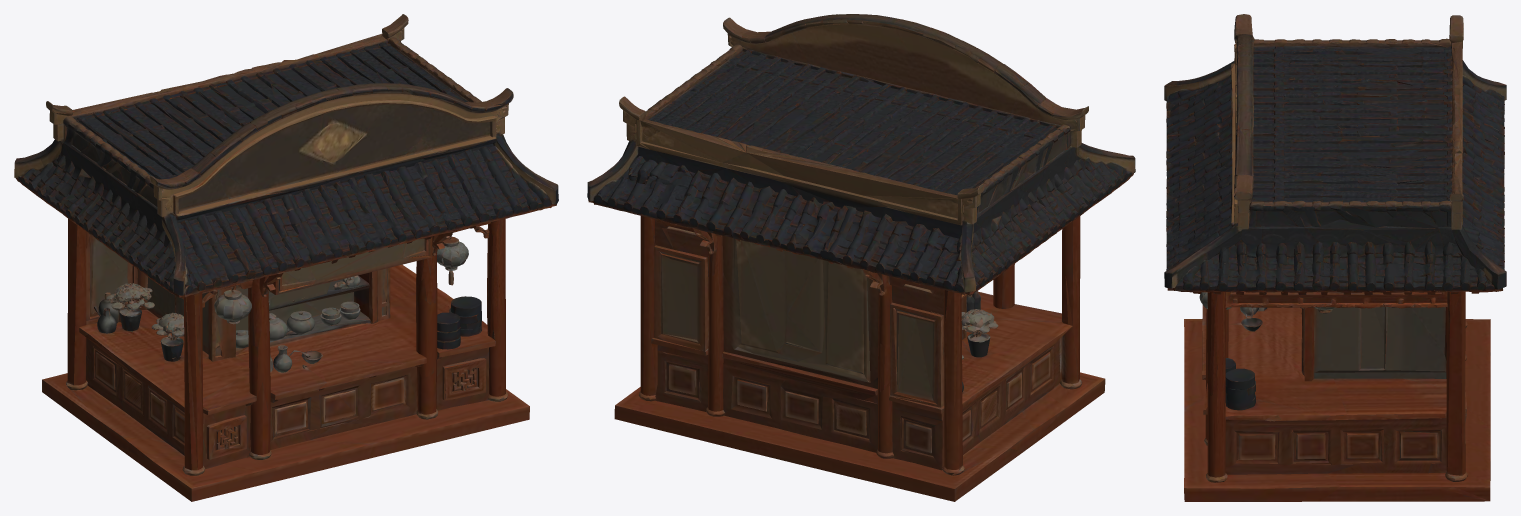
Rendered from pantry.glb.
The picture shows the model from 3 angles, left to right: view 1: azimuth 30°, elevation 25°; view 2: azimuth 150°, elevation 25°; view 3: azimuth 270°, elevation 25°; orthographic projection. The views are drawn at different scales.
Size of the model in its own units: 1.9 by 1.64 by 1.43.
Materials: 1 (1 with a texture image).
